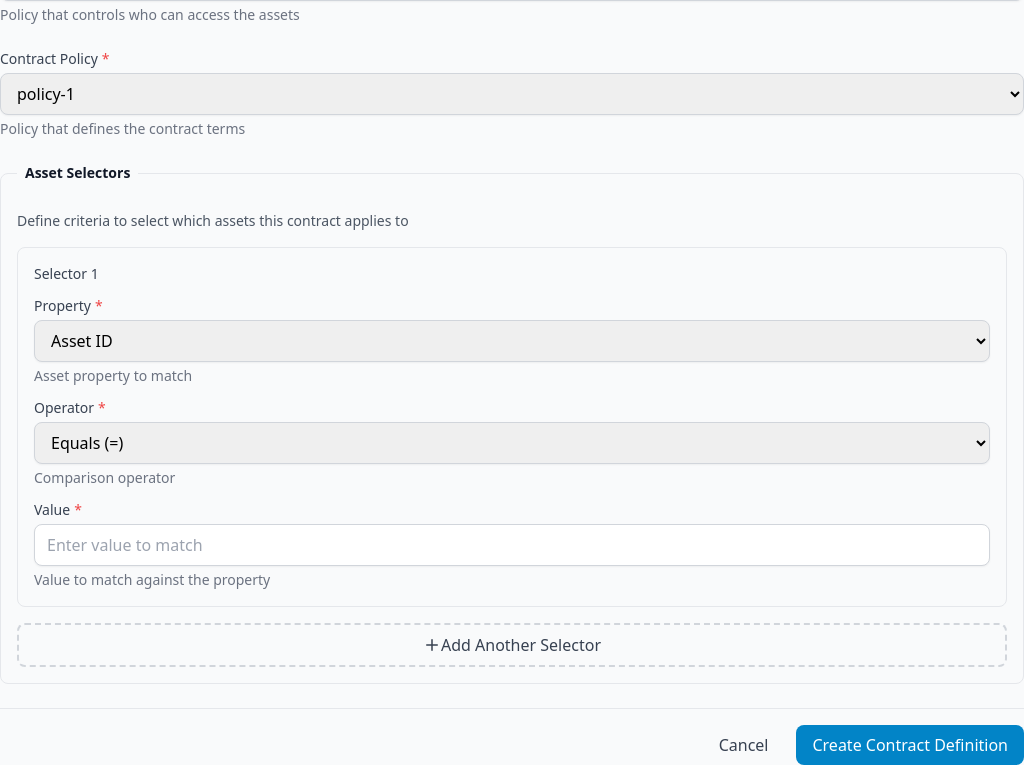
Scenario: ContractForm › asset selectors › removes selector when remove button is clicked
(page scrolled)
Note: Add a second selector
Click the button "Add Another Selector": (512, 645) [17,623,1007,667]
(page scrolled)
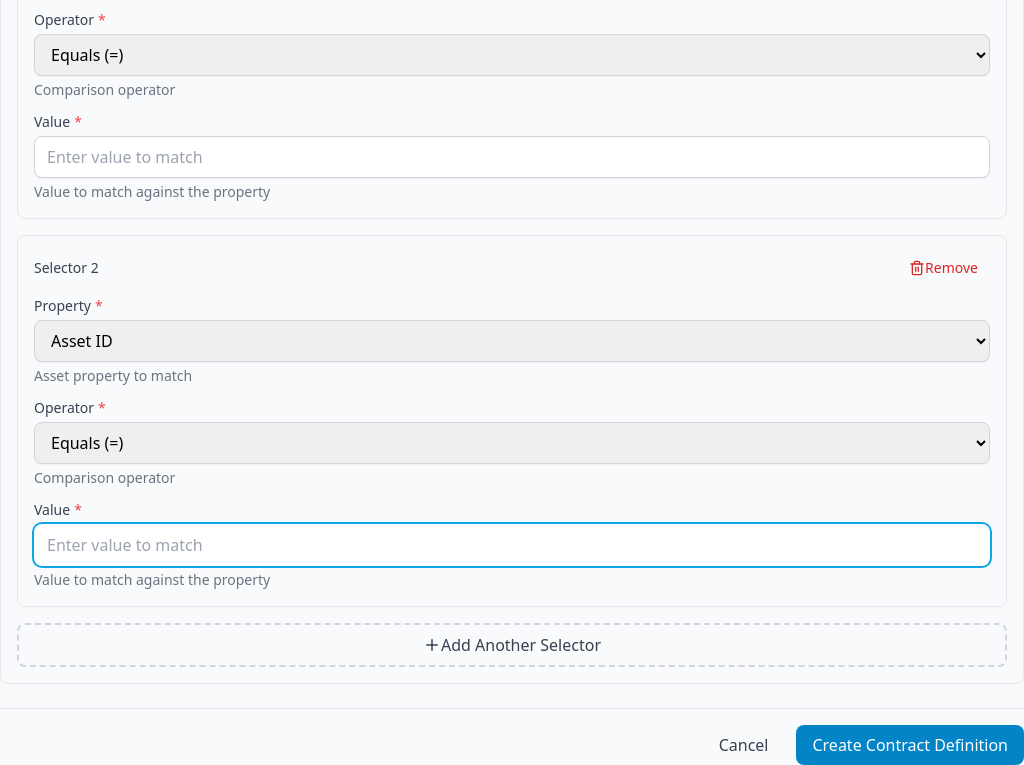
Result: the heading "Selector 2" is shown at [34,258,99,278]
Note: Remove the second selector
Click the button "Remove": (944, 268) [897,252,990,284]
(page scrolled)
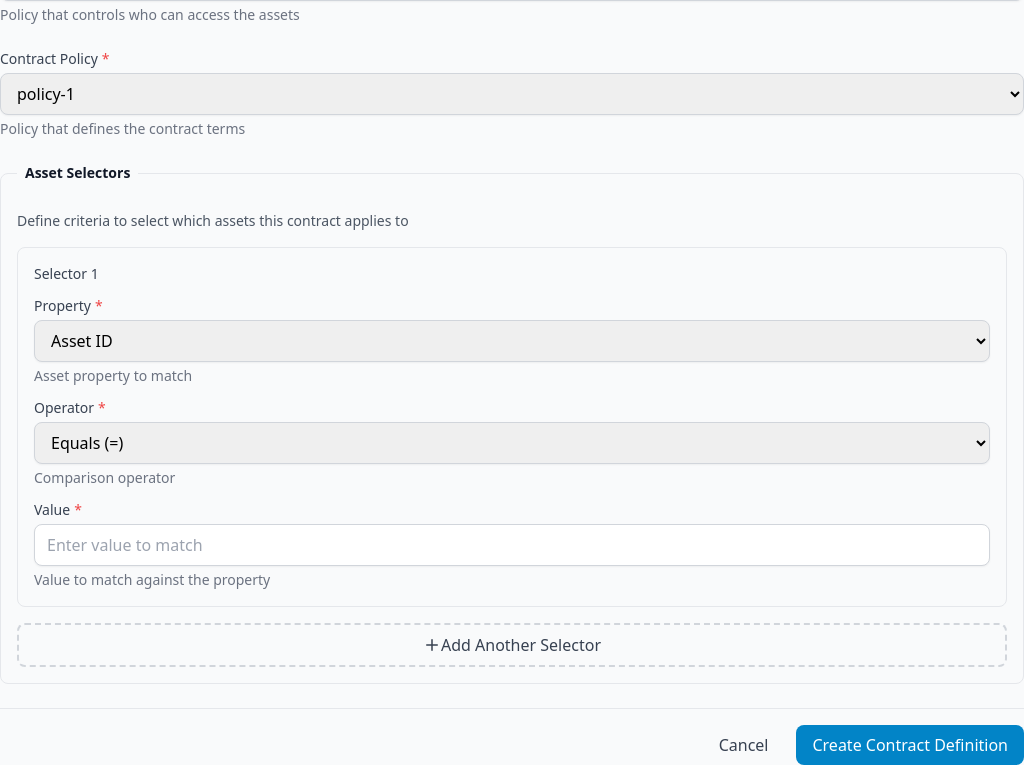
Result: the heading "Selector 2" is gone
